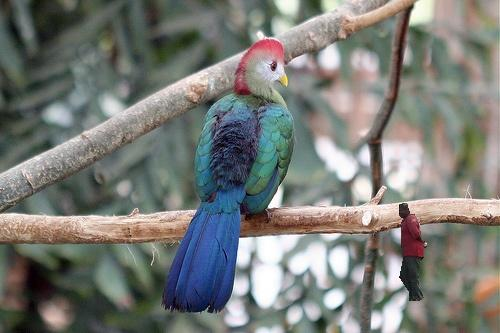tampered: (400, 204, 427, 301)
